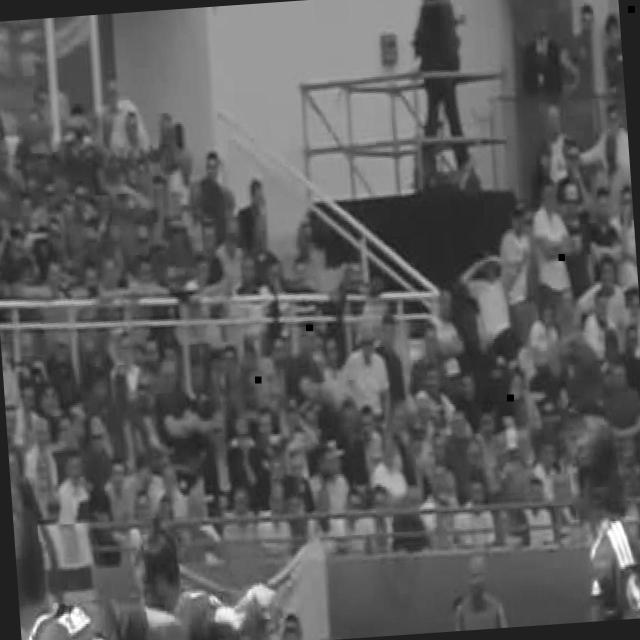player-white: (12, 479, 366, 640), (14, 521, 286, 640), (535, 407, 640, 624)
